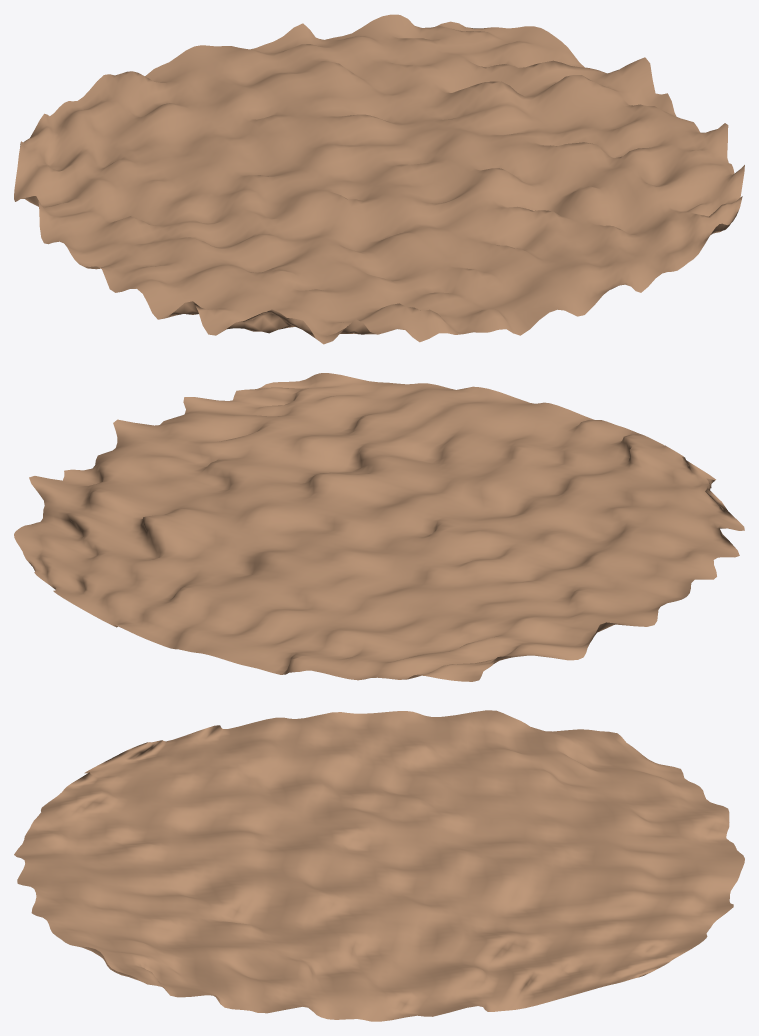
File: Seaground.glb
3 renders of one model, top to bottom at view 1: azimuth 30°, elevation 25°; view 2: azimuth 150°, elevation 25°; view 3: azimuth 270°, elevation 25°, orthographic. The views are drawn at different scales.
Visible parts, largest first — view 1: Plane; view 2: Plane; view 3: Plane.
Boxes of the visible parts, x1=… form: Plane: x1=14, y1=14, x2=744, y2=344; Plane: x1=14, y1=373, x2=744, y2=681; Plane: x1=14, y1=710, x2=744, y2=1021.
Bounding box in the file's own units: 278 × 10.58 × 280.
